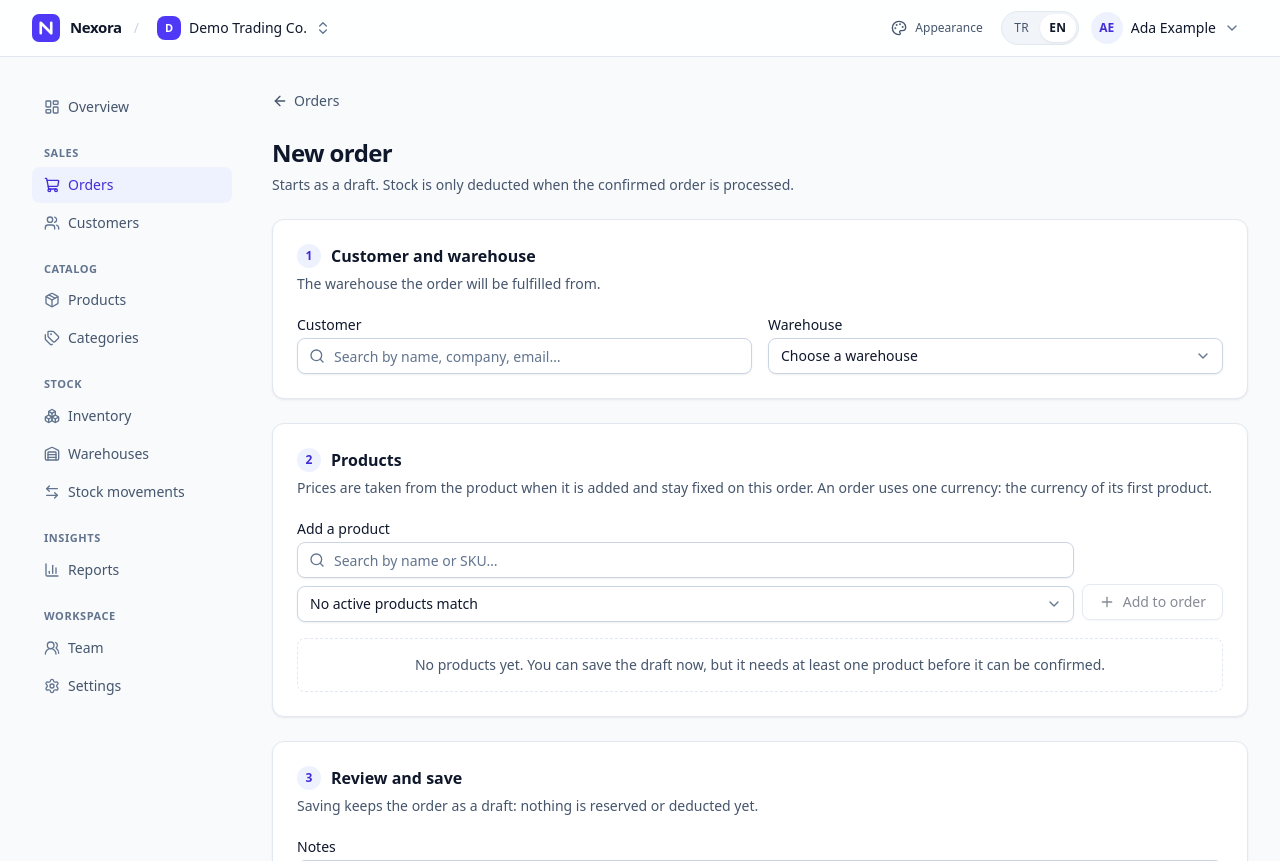
Scenario: CustomerPicker › searches on the server and finds customers far beyond the first page
Expected: the heading "New order" is shown, 272,136 -> 392,169
Type "far down" into the search field labelled "Customer" at [524, 356], box 297,338 -> 752,374
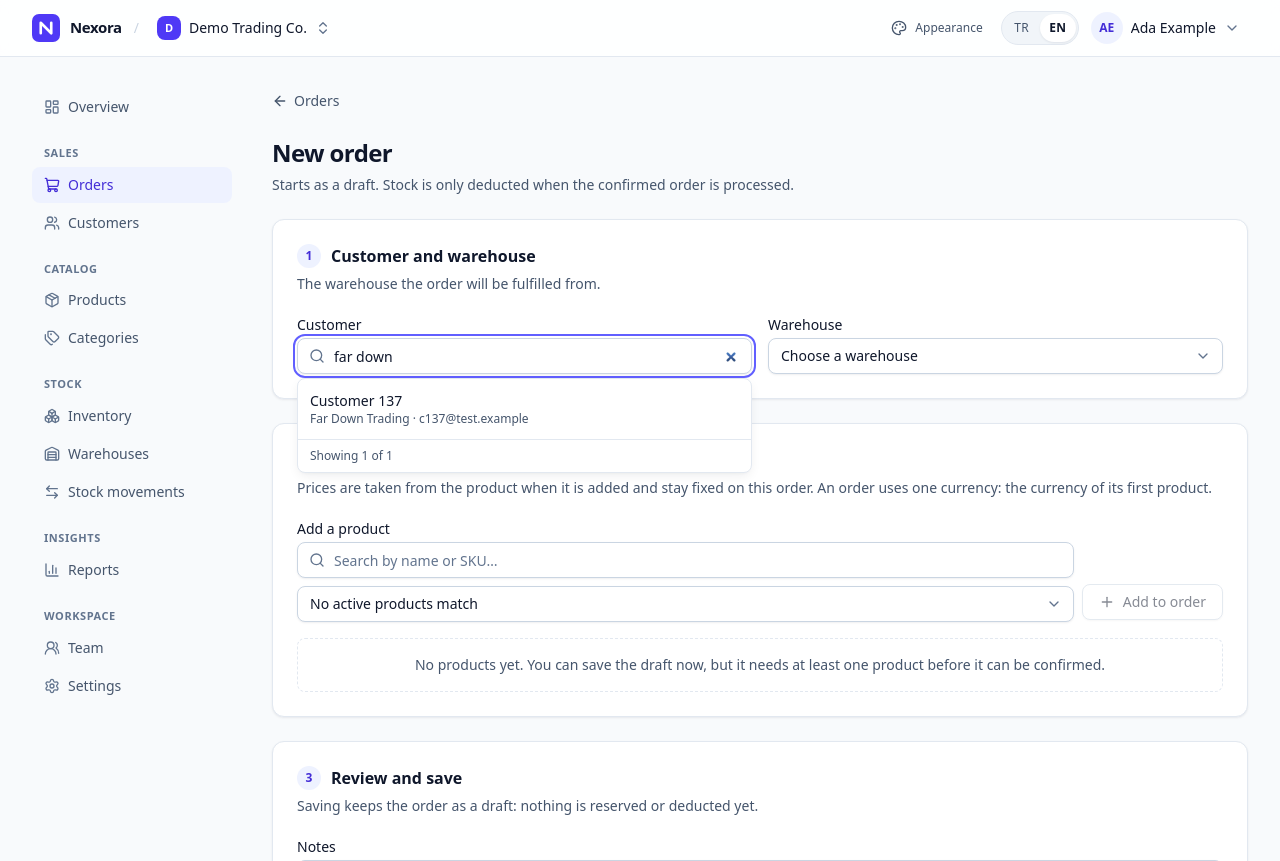
Result: the button "Customer 137 Far Down Trading · c137@test.example" is shown
Click the button "Customer 137 Far Down Trading · c137@test.example" at [524, 409], box 298,383 -> 751,435
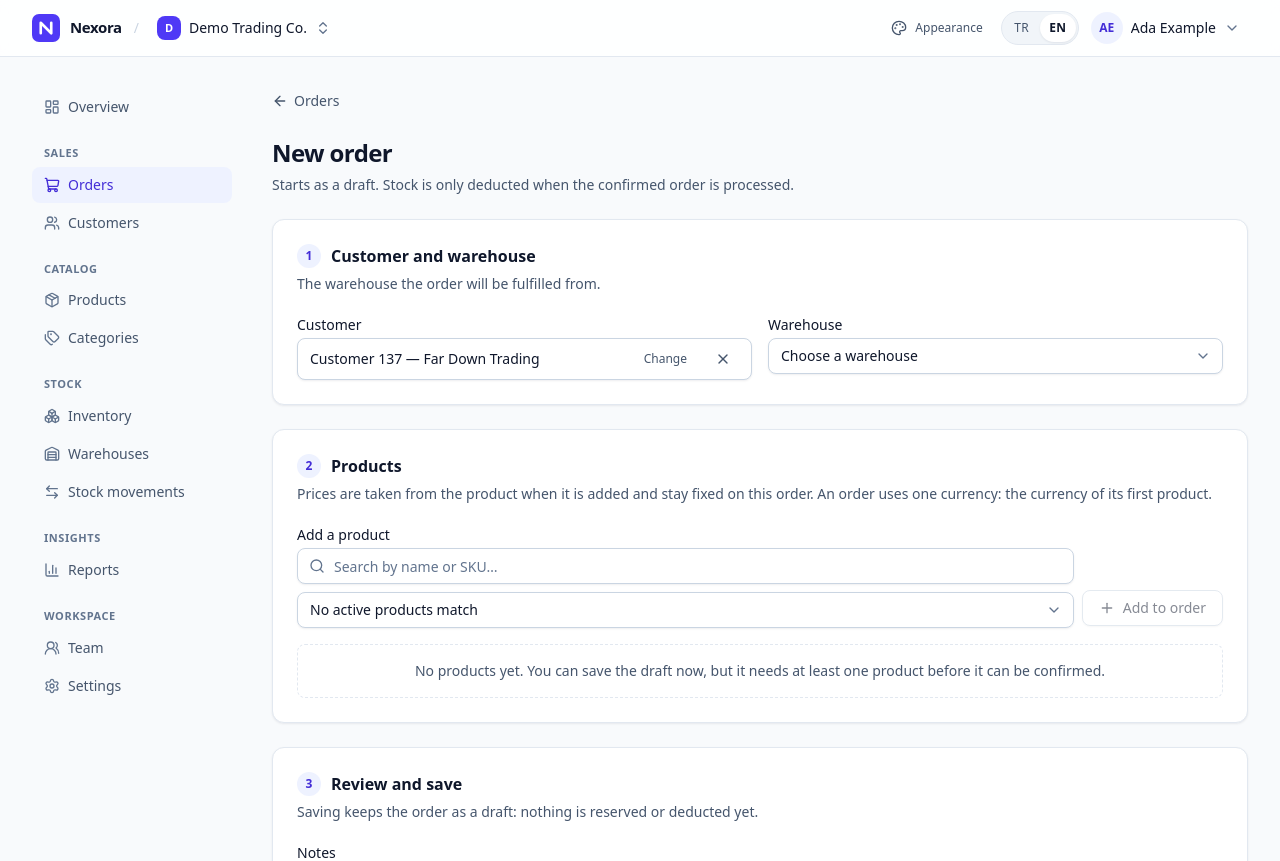
Result: the button with aria-label "Change customer (Customer 137" is shown at 632,343 -> 699,375
